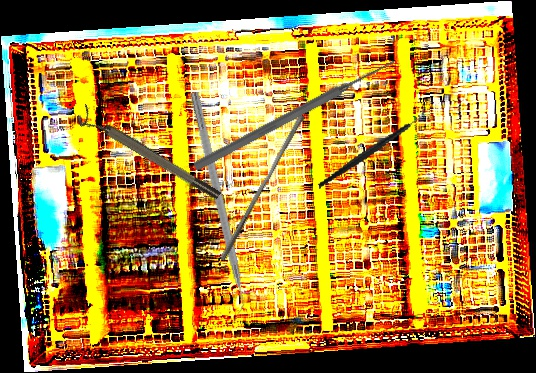Chopper: (178, 91, 251, 324), (306, 106, 437, 189)
Fixation Ring: (74, 104, 223, 208)
Pusher: (191, 54, 400, 174), (219, 111, 306, 265)
